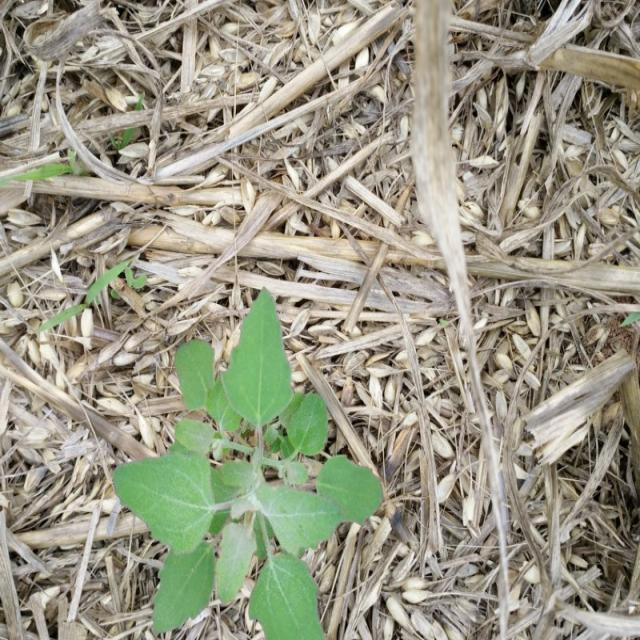ca: (110, 289, 389, 640)
